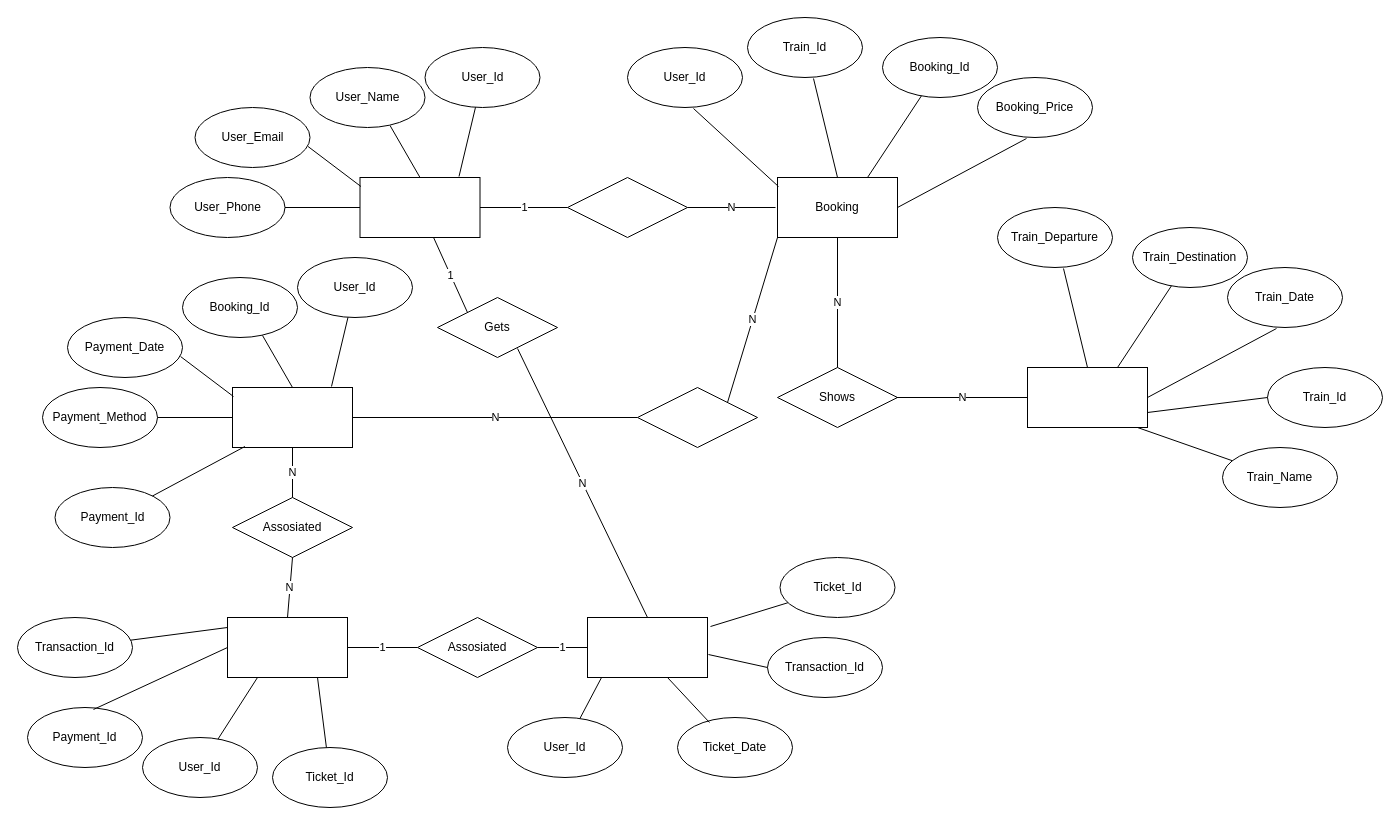
Some shapes in this 1400 by 825 pixel diagram are drawn without their labels. Each missing label, with the centre of its shape:
Does: (697,417)
Makes: (627,207)
Payment: (292,417)
Ticket: (647,647)
Train: (1087,397)
Transaction: (287,647)
User: (419,207)
